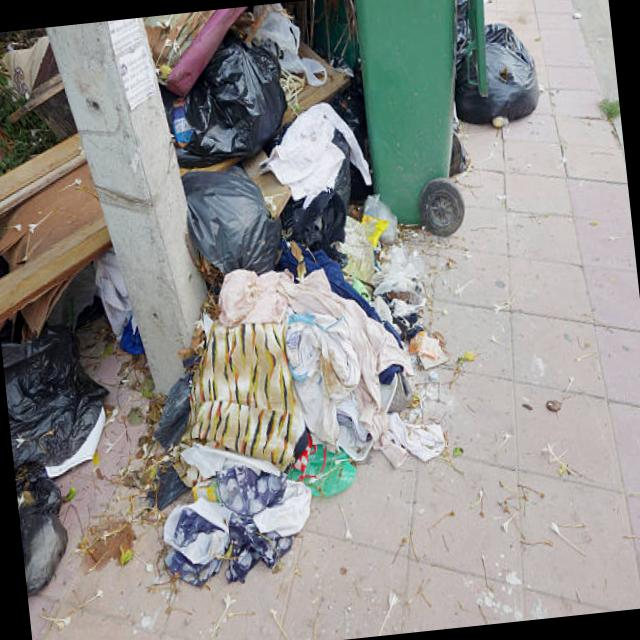garbage: (47, 0, 468, 602)
